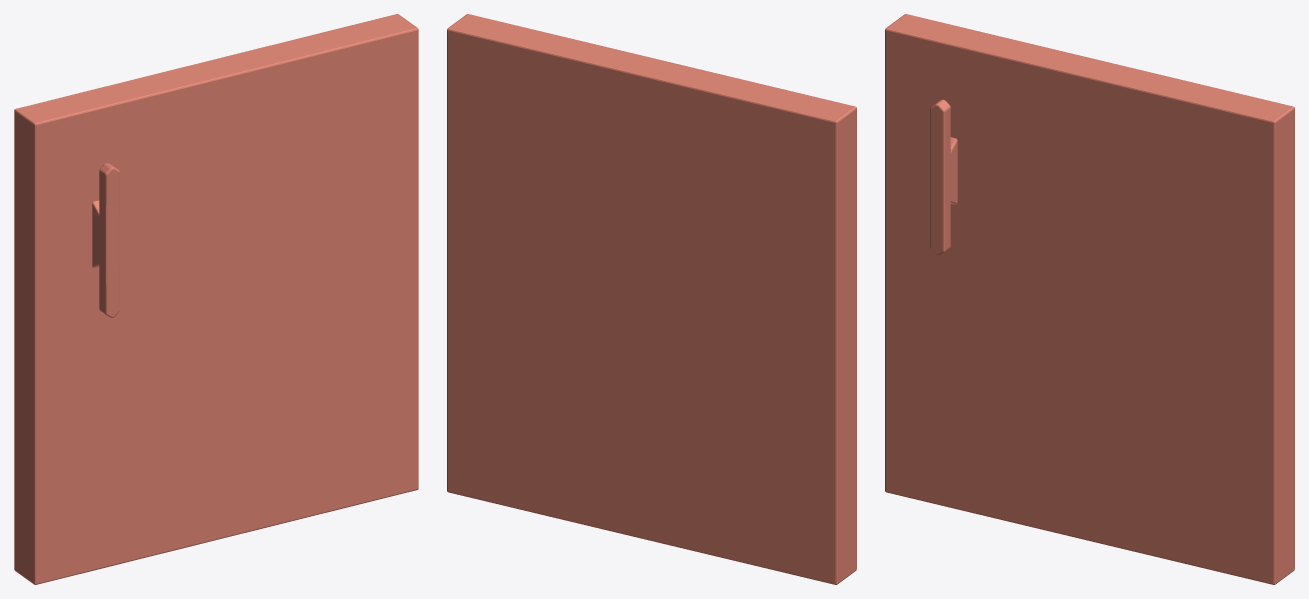
File: EngineerRoom_BookCase_Door.fbx
3 renders of one model, left to right at view 1: azimuth 30°, elevation 25°; view 2: azimuth 150°, elevation 25°; view 3: azimuth 330°, elevation 25°, orthographic.
Parts seen in each view (by area): view 1: Cabinet_door; view 2: Cabinet_door; view 3: Cabinet_door.
Boxes of the visible parts, x1,y1,x2,y2 form: Cabinet_door: [14, 14, 418, 584]; Cabinet_door: [447, 14, 856, 584]; Cabinet_door: [885, 14, 1294, 584].
Size of the model in its own units: 8 by 56.6 by 49.62.
